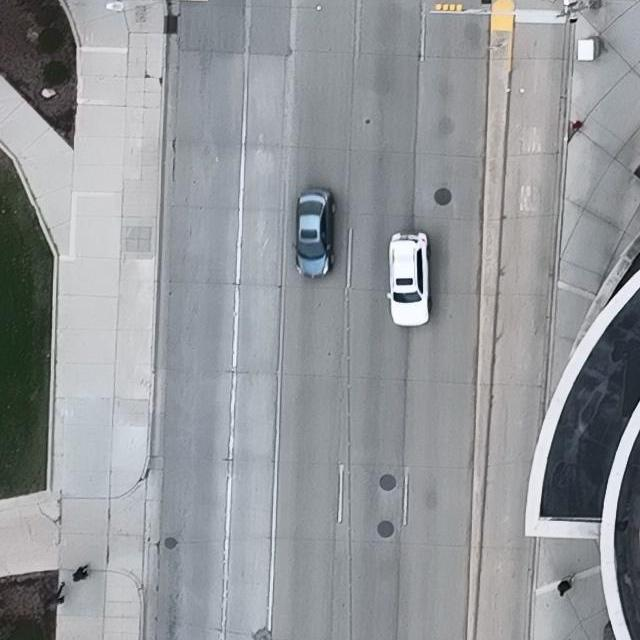car: (385, 231, 431, 327), (290, 189, 336, 280)
